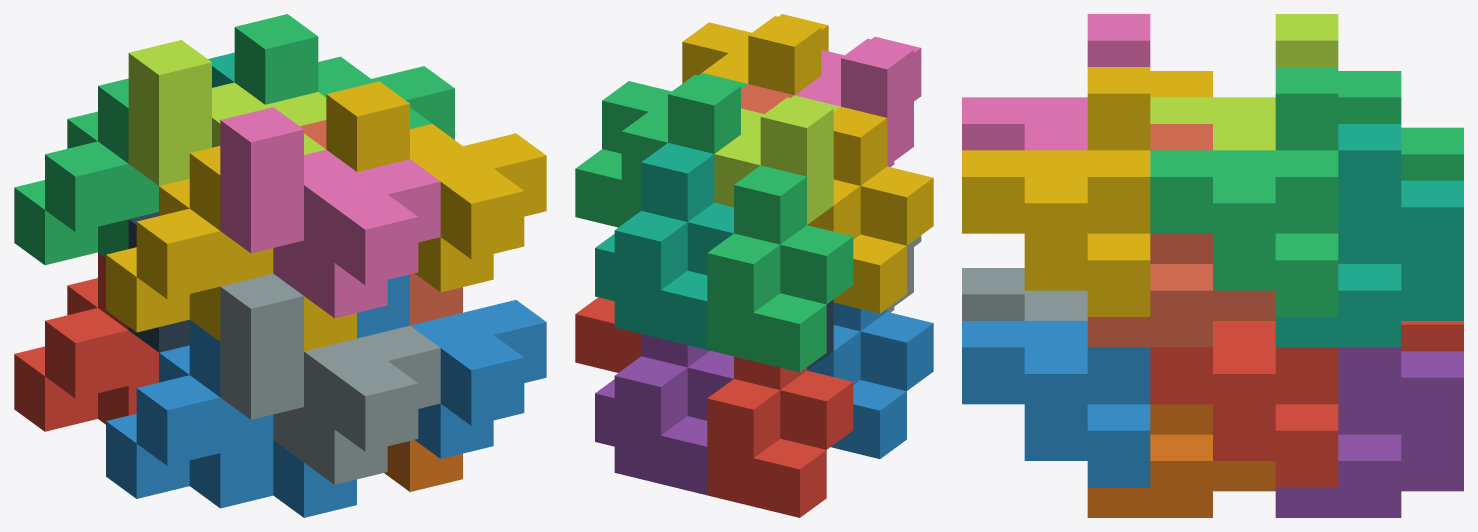
File: tiling.obj
3 views of the same model, side by side, from view 1: azimuth 30°, elevation 25°; view 2: azimuth 150°, elevation 25°; view 3: azimuth 270°, elevation 25° (orthographic). The views are drawn at different scales.
Visible parts, largest first — view 1: copy_2_domain_4, copy_2_domain_2, copy_1_domain_2, copy_2_domain_8, copy_1_domain_4, copy_2_domain_6, copy_1_domain_3, copy_1_domain_1, copy_2_domain_3, copy_2_domain_7, copy_1_domain_6, copy_1_domain_8 (+2 smaller); view 2: copy_1_domain_3, copy_1_domain_7, copy_1_domain_1, copy_1_domain_5, copy_1_domain_4, copy_2_domain_7, copy_1_domain_2, copy_2_domain_3, copy_2_domain_8, copy_2_domain_4, copy_2_domain_5, copy_1_domain_8 (+2 smaller); view 3: copy_2_domain_8, copy_2_domain_7, copy_1_domain_7, copy_2_domain_6, copy_1_domain_5, copy_2_domain_5, copy_1_domain_8, copy_1_domain_6, copy_2_domain_4, copy_2_domain_3, copy_1_domain_3, copy_2_domain_2 (+2 smaller).
Boxes of the visible parts, box(x1,y1,x2,y2) form: copy_2_domain_4: box(220, 107, 440, 318); copy_2_domain_2: box(220, 273, 440, 484); copy_1_domain_2: box(106, 320, 356, 517); copy_2_domain_8: box(326, 81, 546, 292); copy_1_domain_4: box(106, 146, 356, 351); copy_2_domain_6: box(357, 274, 546, 458); copy_1_domain_3: box(14, 78, 158, 265); copy_1_domain_1: box(14, 252, 158, 431); copy_2_domain_3: box(128, 40, 326, 185); copy_2_domain_7: box(234, 14, 454, 139); copy_1_domain_6: box(384, 440, 462, 491); copy_1_domain_8: box(300, 120, 462, 325); copy_1_domain_3: box(707, 165, 853, 372); copy_1_domain_7: box(595, 143, 733, 349); copy_1_domain_1: box(707, 356, 853, 517); copy_1_domain_5: box(595, 334, 733, 495); copy_1_domain_4: box(807, 106, 933, 313); copy_2_domain_7: box(575, 73, 747, 227); copy_1_domain_2: box(807, 302, 933, 458); copy_2_domain_3: box(714, 95, 840, 224); copy_2_domain_8: box(682, 14, 828, 95); copy_2_domain_4: box(795, 36, 921, 166); copy_2_domain_5: box(575, 297, 641, 372); copy_1_domain_8: box(741, 84, 793, 113); copy_2_domain_8: box(962, 67, 1150, 316); copy_2_domain_7: box(1150, 67, 1338, 316); copy_1_domain_7: box(1275, 124, 1463, 347); copy_2_domain_6: box(962, 321, 1150, 487); copy_1_domain_5: box(1275, 347, 1463, 517); copy_2_domain_5: box(1150, 321, 1338, 487); copy_1_domain_8: box(1087, 124, 1275, 347); copy_1_domain_6: box(1087, 404, 1275, 517); copy_2_domain_4: box(962, 14, 1150, 150); copy_2_domain_3: box(1150, 14, 1338, 150); copy_1_domain_3: box(1338, 71, 1463, 180); copy_2_domain_2: box(962, 268, 1087, 320).
Size of the model in its own units: 6 by 7 by 8.
